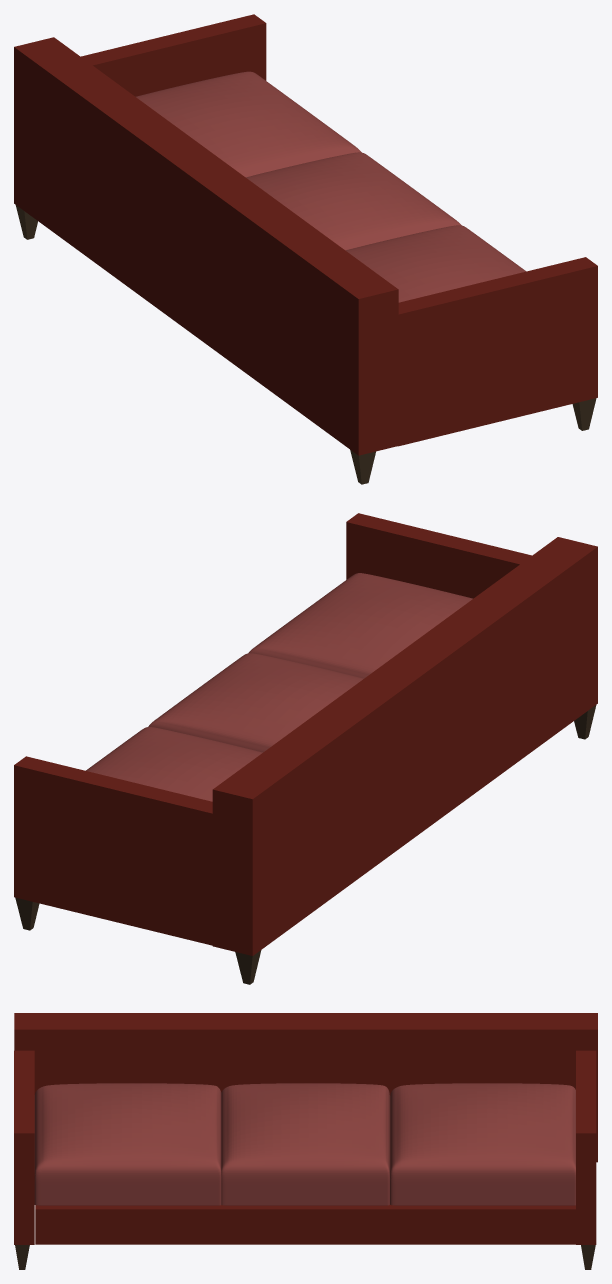
Rendered from Couch.fbx.
3 renders of one model, top to bottom at view 1: azimuth 30°, elevation 25°; view 2: azimuth 150°, elevation 25°; view 3: azimuth 270°, elevation 25°, orthographic. The views are drawn at different scales.
Visible parts, largest first — view 1: Cube; view 2: Cube; view 3: Cube.
Boxes of the visible parts, x1,y1,x2,y2 form: Cube: [14, 14, 597, 484]; Cube: [14, 513, 597, 984]; Cube: [14, 1013, 597, 1269].
Size of the model in its own units: 314 by 237 by 782.
